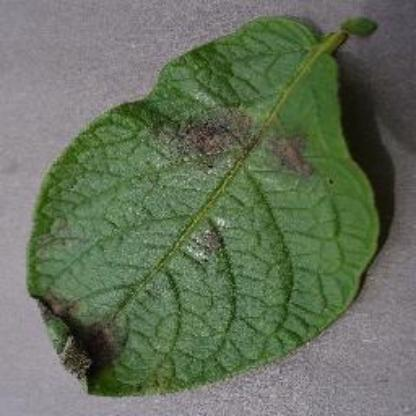Late-Blight: (19, 15, 405, 400)
